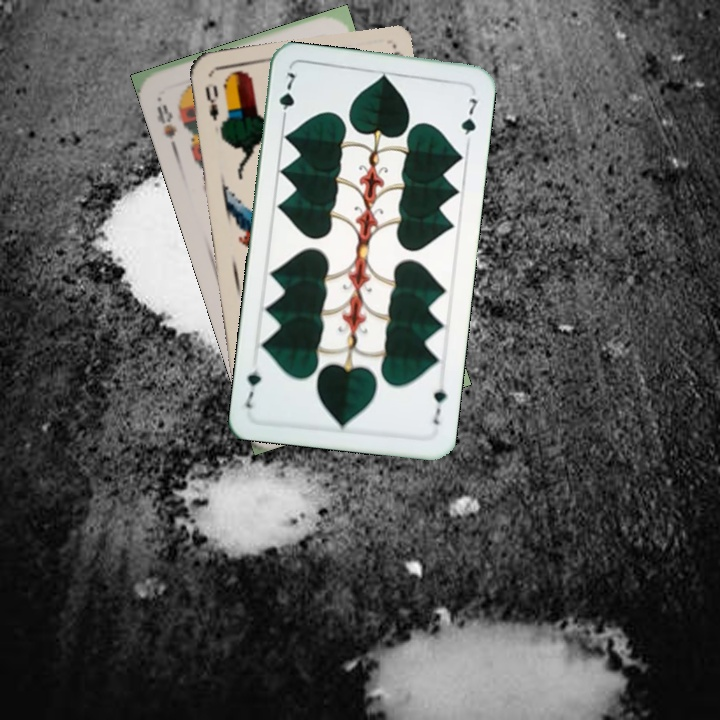EO: (201, 81, 228, 132)
G7: (275, 68, 298, 126), (429, 376, 449, 427)
S8: (152, 100, 179, 150)
